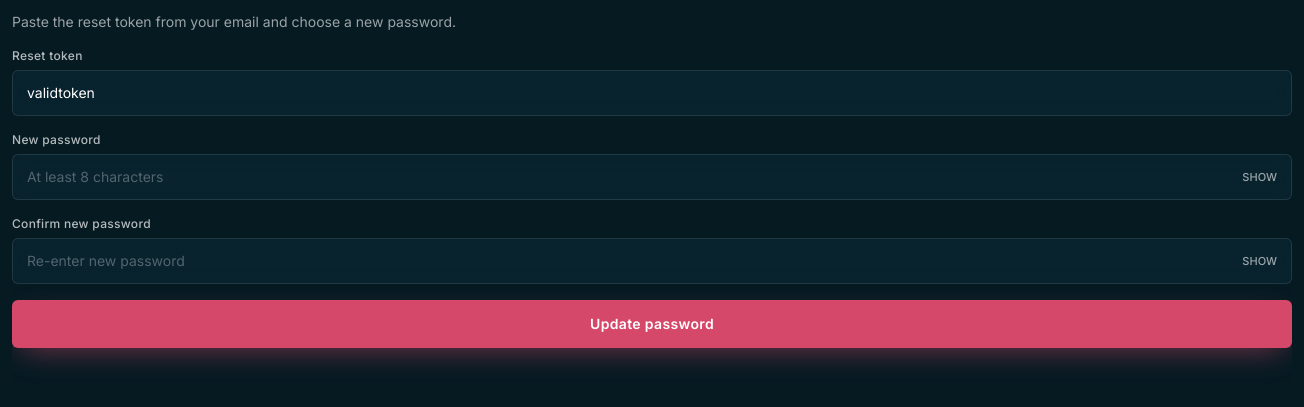
ResetPasswordForm › shows password mismatch error
Type "password123" into the password field labelled "New password".
click(652, 177); type("password123")  # box [13,155,1291,199]
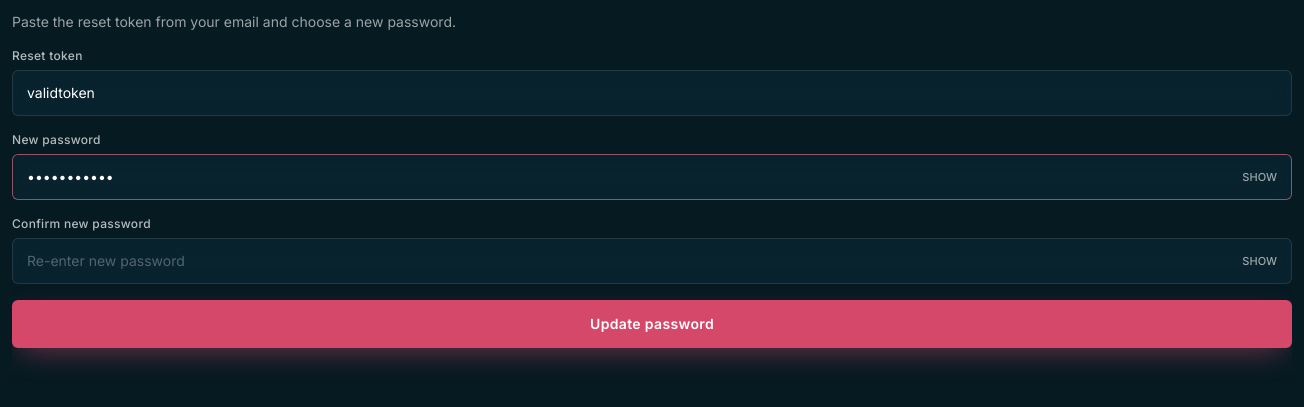
Type "different123" into the password field labelled "Confirm new password".
click(652, 261); type("different123")  # box [13,239,1291,283]
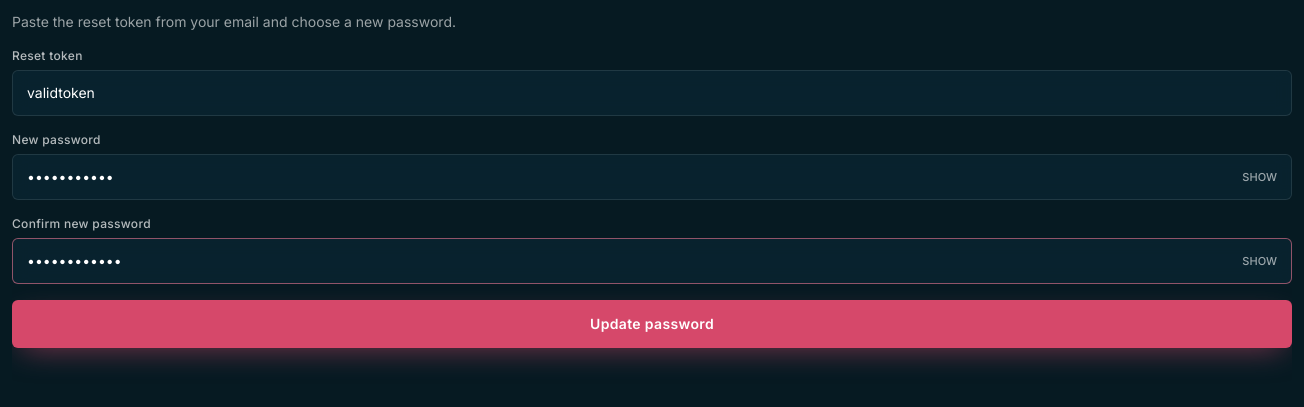
Click the button "Update password".
click(652, 324)  # box [12,300,1292,348]
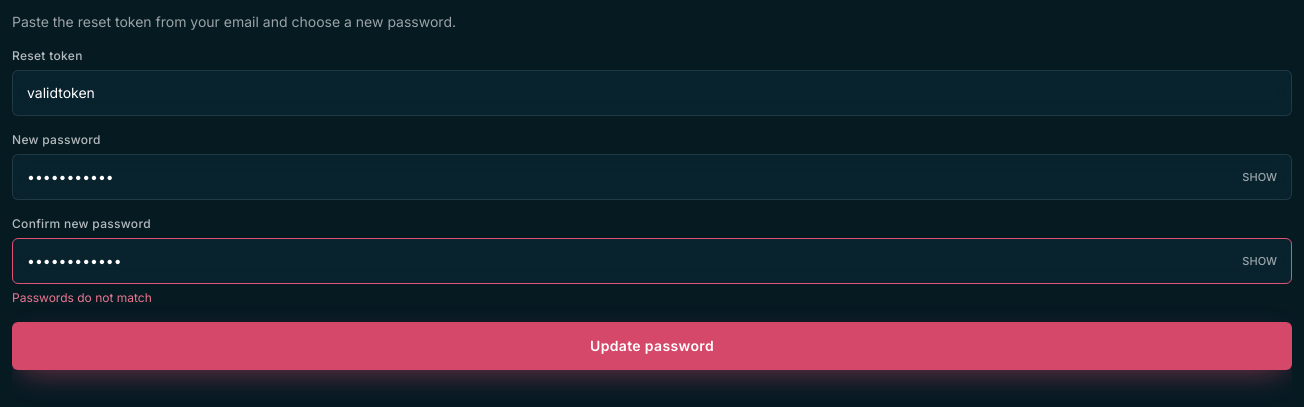
Check: the text "Passwords do not match" is shown, box [12,290,152,305]
